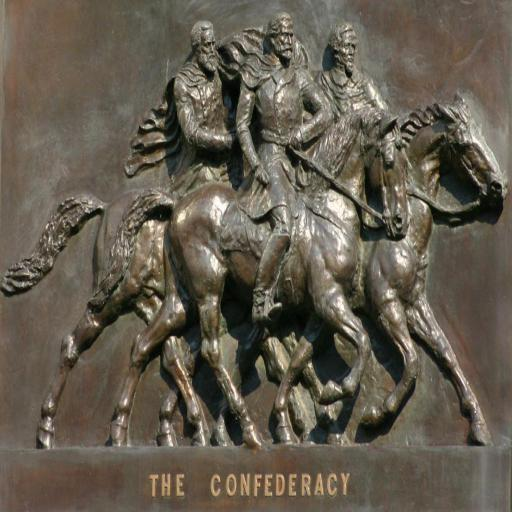horse: (156, 90, 512, 452), (86, 106, 408, 450), (0, 188, 353, 449)
